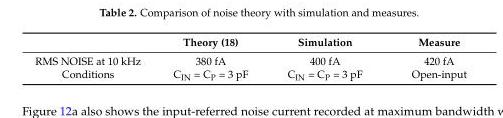table: (34, 35, 466, 81)
table column: (34, 35, 156, 81), (267, 35, 386, 81), (156, 35, 267, 81), (386, 35, 466, 81)
table column header: (34, 35, 466, 51)
table row: (34, 35, 466, 51), (34, 51, 466, 67), (34, 67, 466, 81)
